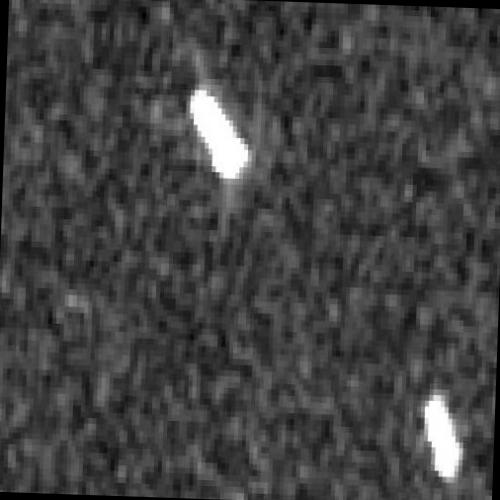ship: (187, 84, 251, 183), (422, 388, 465, 483)
